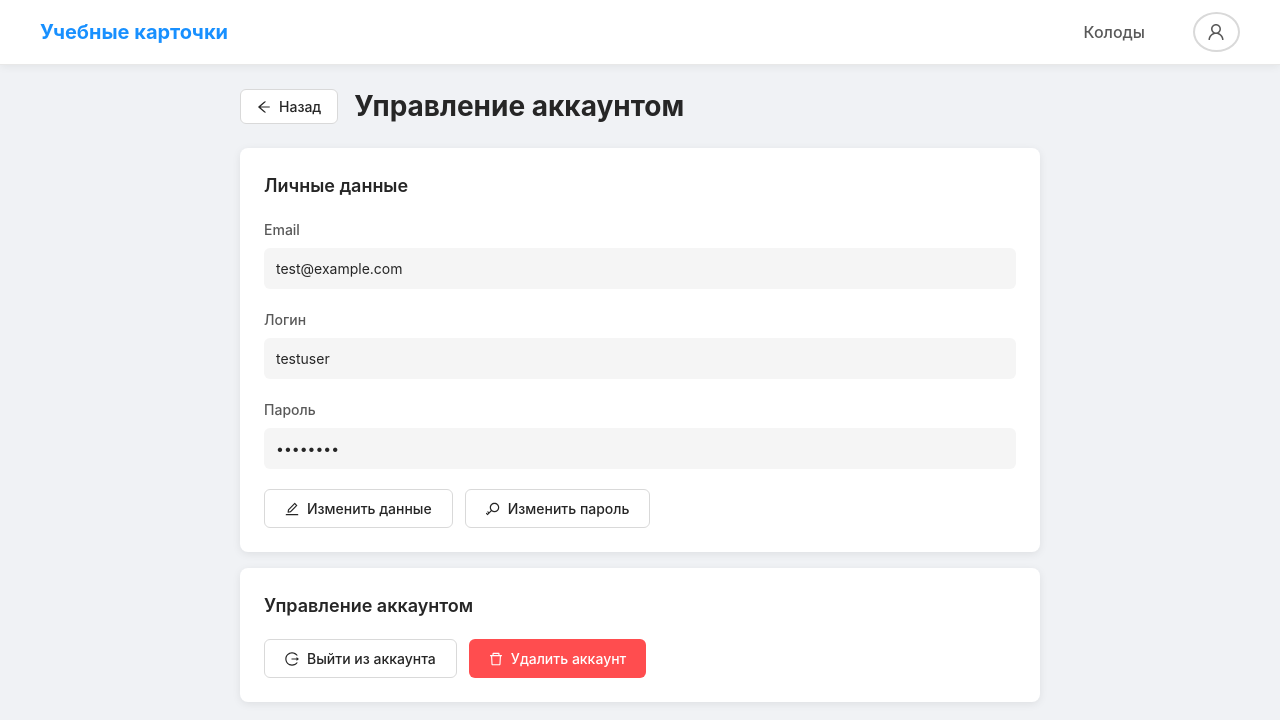
ProfilePage › edit profile mode › validates email on change
The width and height of the screenshot is (1280, 720).
Click the button "Изменить данные": (358, 508) x1=264 y1=489 x2=453 y2=528
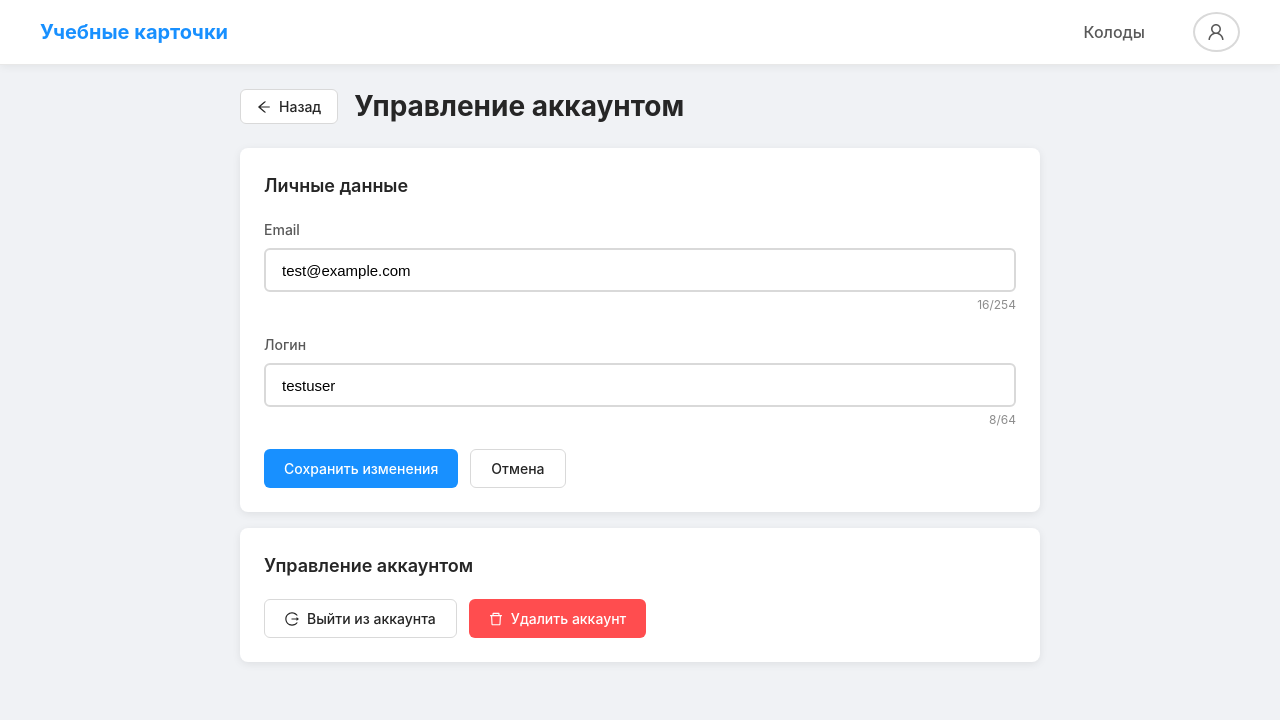
Replace the text in the field with placeholder "example@email.com" below "Email" with "invalid-email": (640, 270) x1=264 y1=248 x2=1016 y2=292
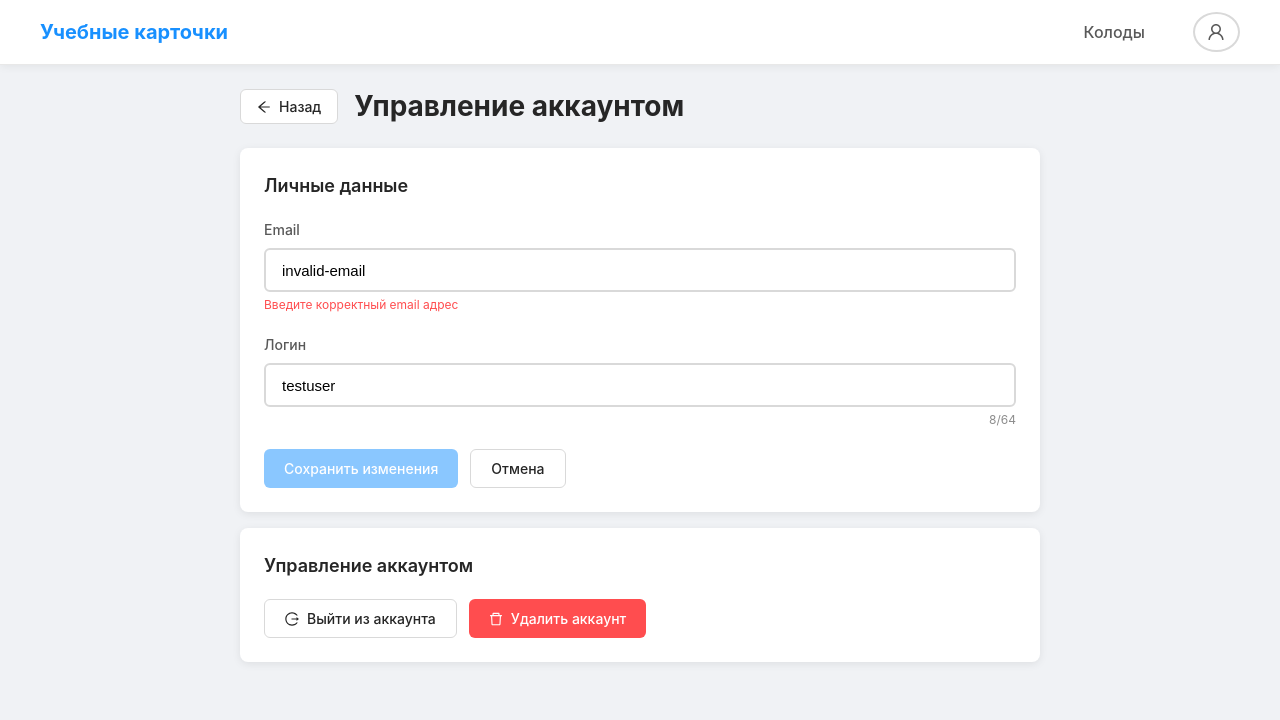
Result: the text "Введите корректный email адрес" is shown at x1=264 y1=297 x2=458 y2=312
